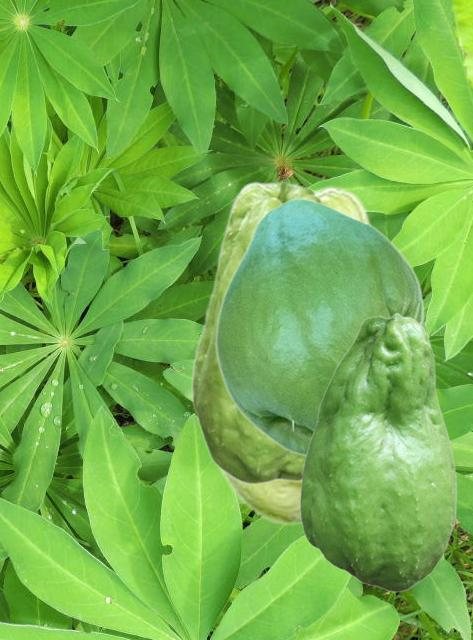sayote: (206, 185, 375, 527), (214, 198, 424, 457), (299, 312, 456, 591), (190, 180, 323, 485)
